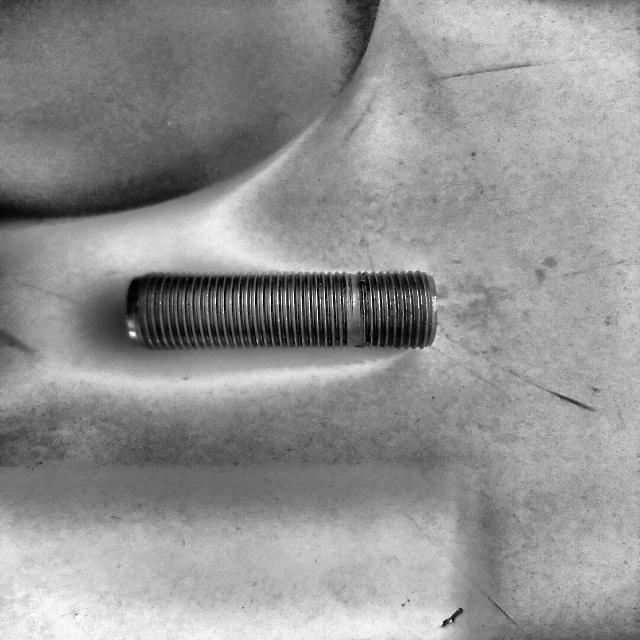Broken: (127, 269, 438, 352)
